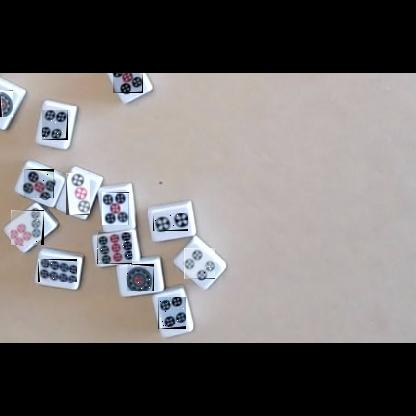1p: (127, 264, 154, 291), (0, 90, 13, 117)
2p: (153, 213, 188, 231)
3p: (66, 173, 90, 215)
4p: (184, 248, 215, 279), (158, 297, 186, 329), (42, 110, 68, 140)
5p: (23, 169, 54, 198), (102, 192, 129, 225), (113, 73, 143, 93)
7p: (11, 210, 44, 245)
8p: (38, 259, 77, 282)
9p: (97, 232, 132, 264)
